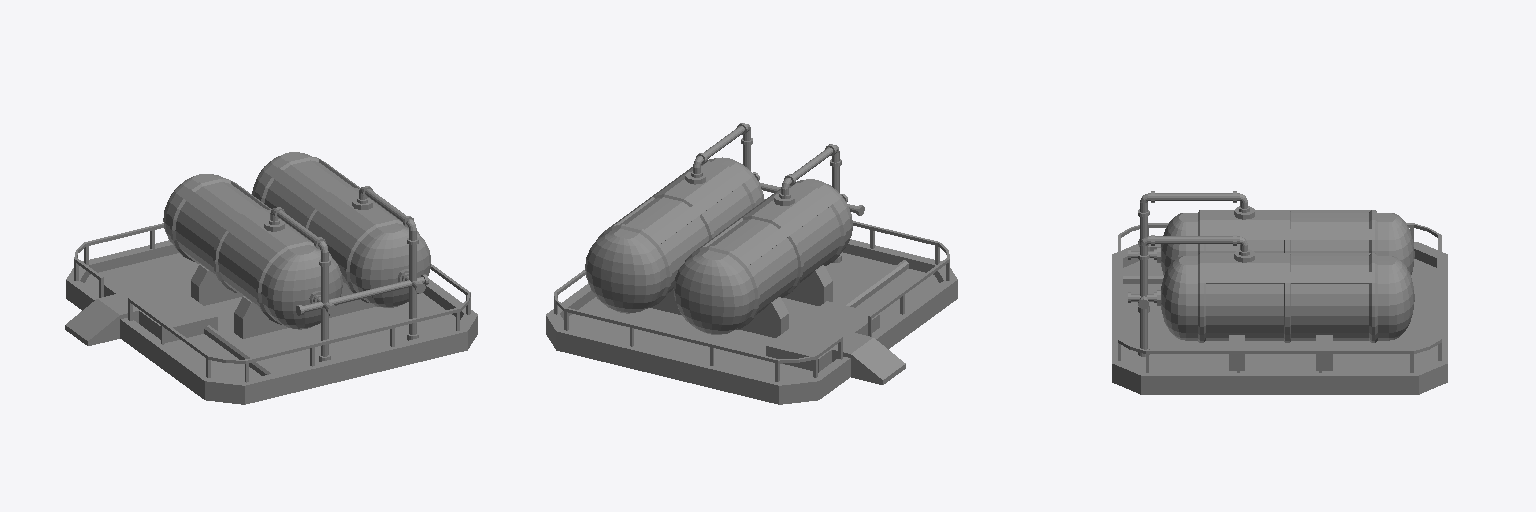
The picture shows the model from 3 angles: view 1: azimuth 30°, elevation 25°; view 2: azimuth 150°, elevation 25°; view 3: azimuth 270°, elevation 25°; orthographic projection.
Visible parts, largest first — view 1: Fuel_tank_2__Cube_037; view 2: Fuel_tank_2__Cube_037; view 3: Fuel_tank_2__Cube_037.
Boxes of the visible parts, x1,y1,x2,y2 form: Fuel_tank_2__Cube_037: [65, 152, 477, 404]; Fuel_tank_2__Cube_037: [546, 123, 957, 404]; Fuel_tank_2__Cube_037: [1112, 191, 1447, 394].
Bounding box in the file's own units: 2.8 × 1.13 × 2.67.